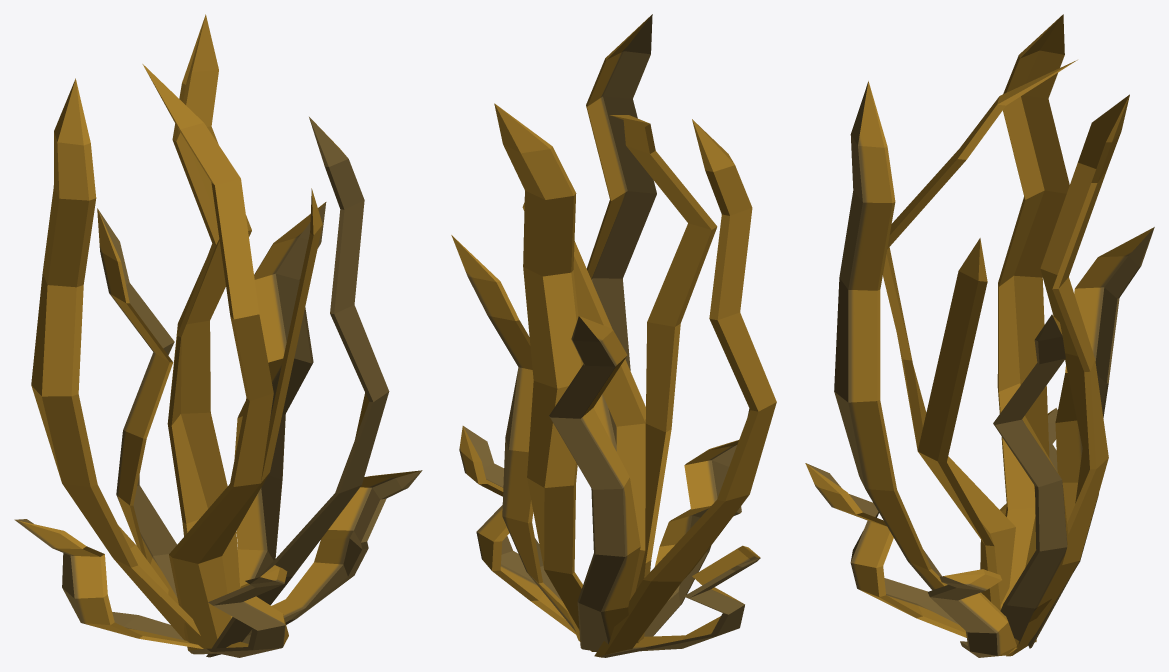
Rendered from Hierva Alta 2.fbx.
3 views of the same model, side by side, from view 1: azimuth 30°, elevation 25°; view 2: azimuth 150°, elevation 25°; view 3: azimuth 270°, elevation 25° (orthographic).
Visible parts, largest first — view 1: hierva alta; view 2: hierva alta; view 3: hierva alta.
Boxes of the visible parts, box(x1,y1,x2,y2) form: hierva alta: box(14, 14, 422, 657); hierva alta: box(451, 14, 776, 657); hierva alta: box(805, 14, 1154, 657).
Size of the model in its own units: 149 by 230 by 127.
